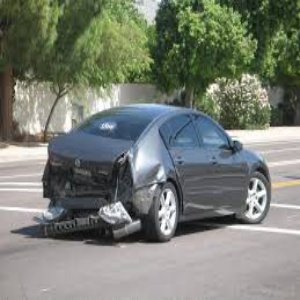bumper: (27, 194, 140, 246)
